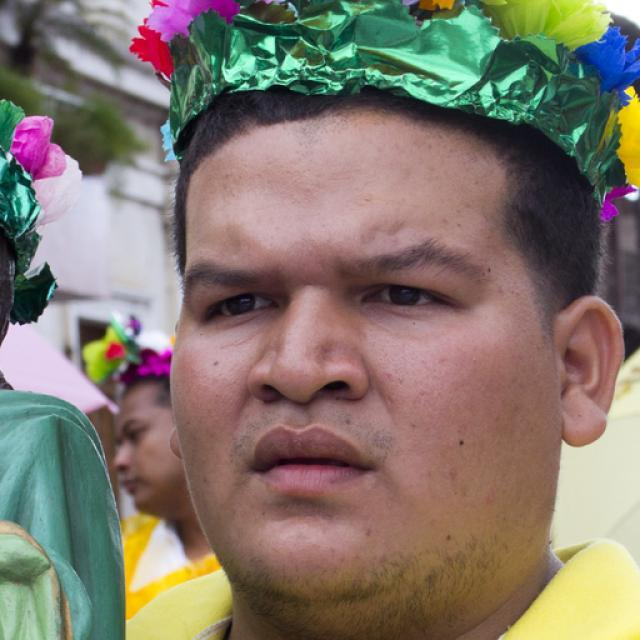disgust: (168, 91, 556, 604)
